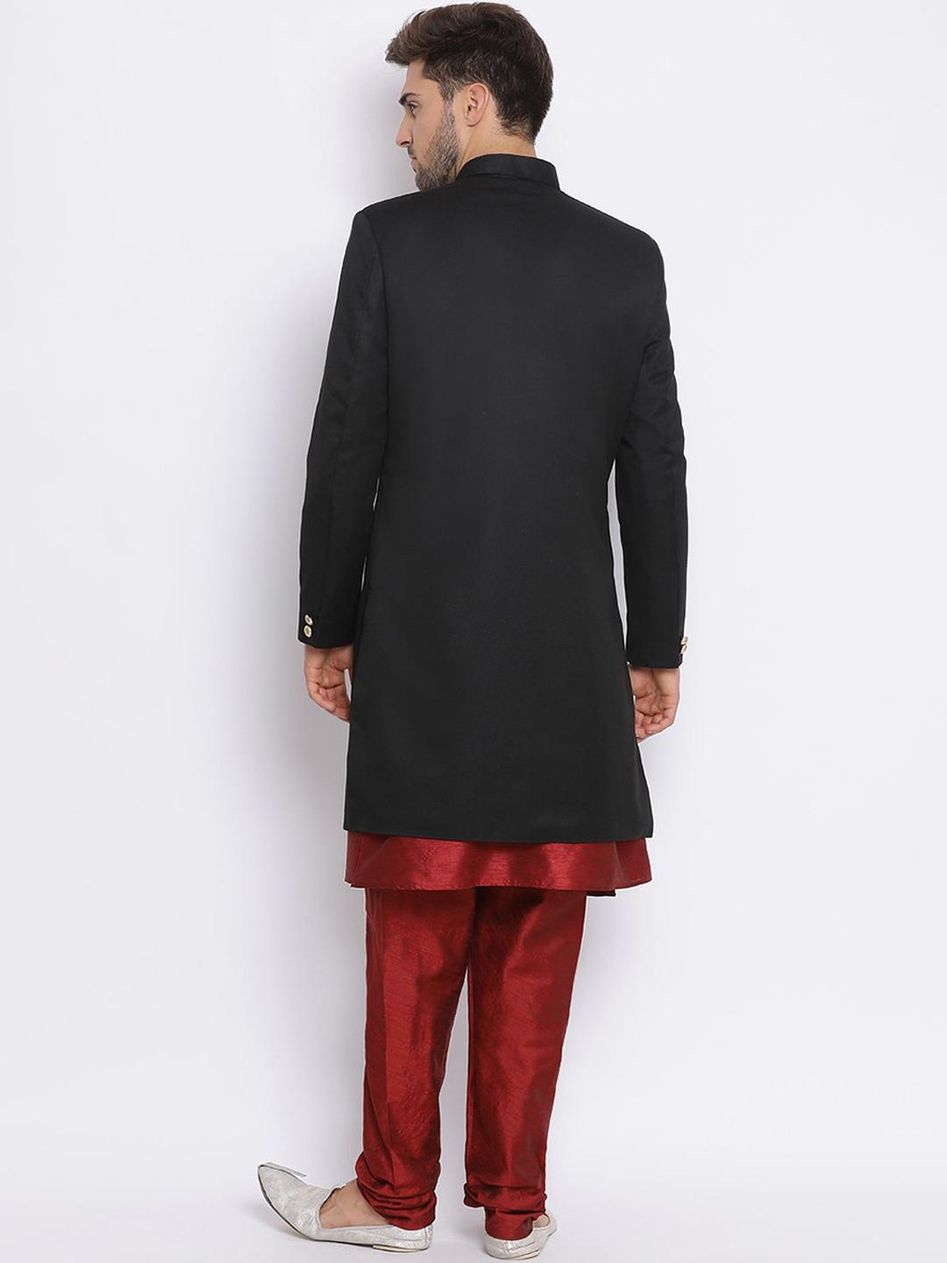Plain Sherwani: (293, 153, 694, 850)
